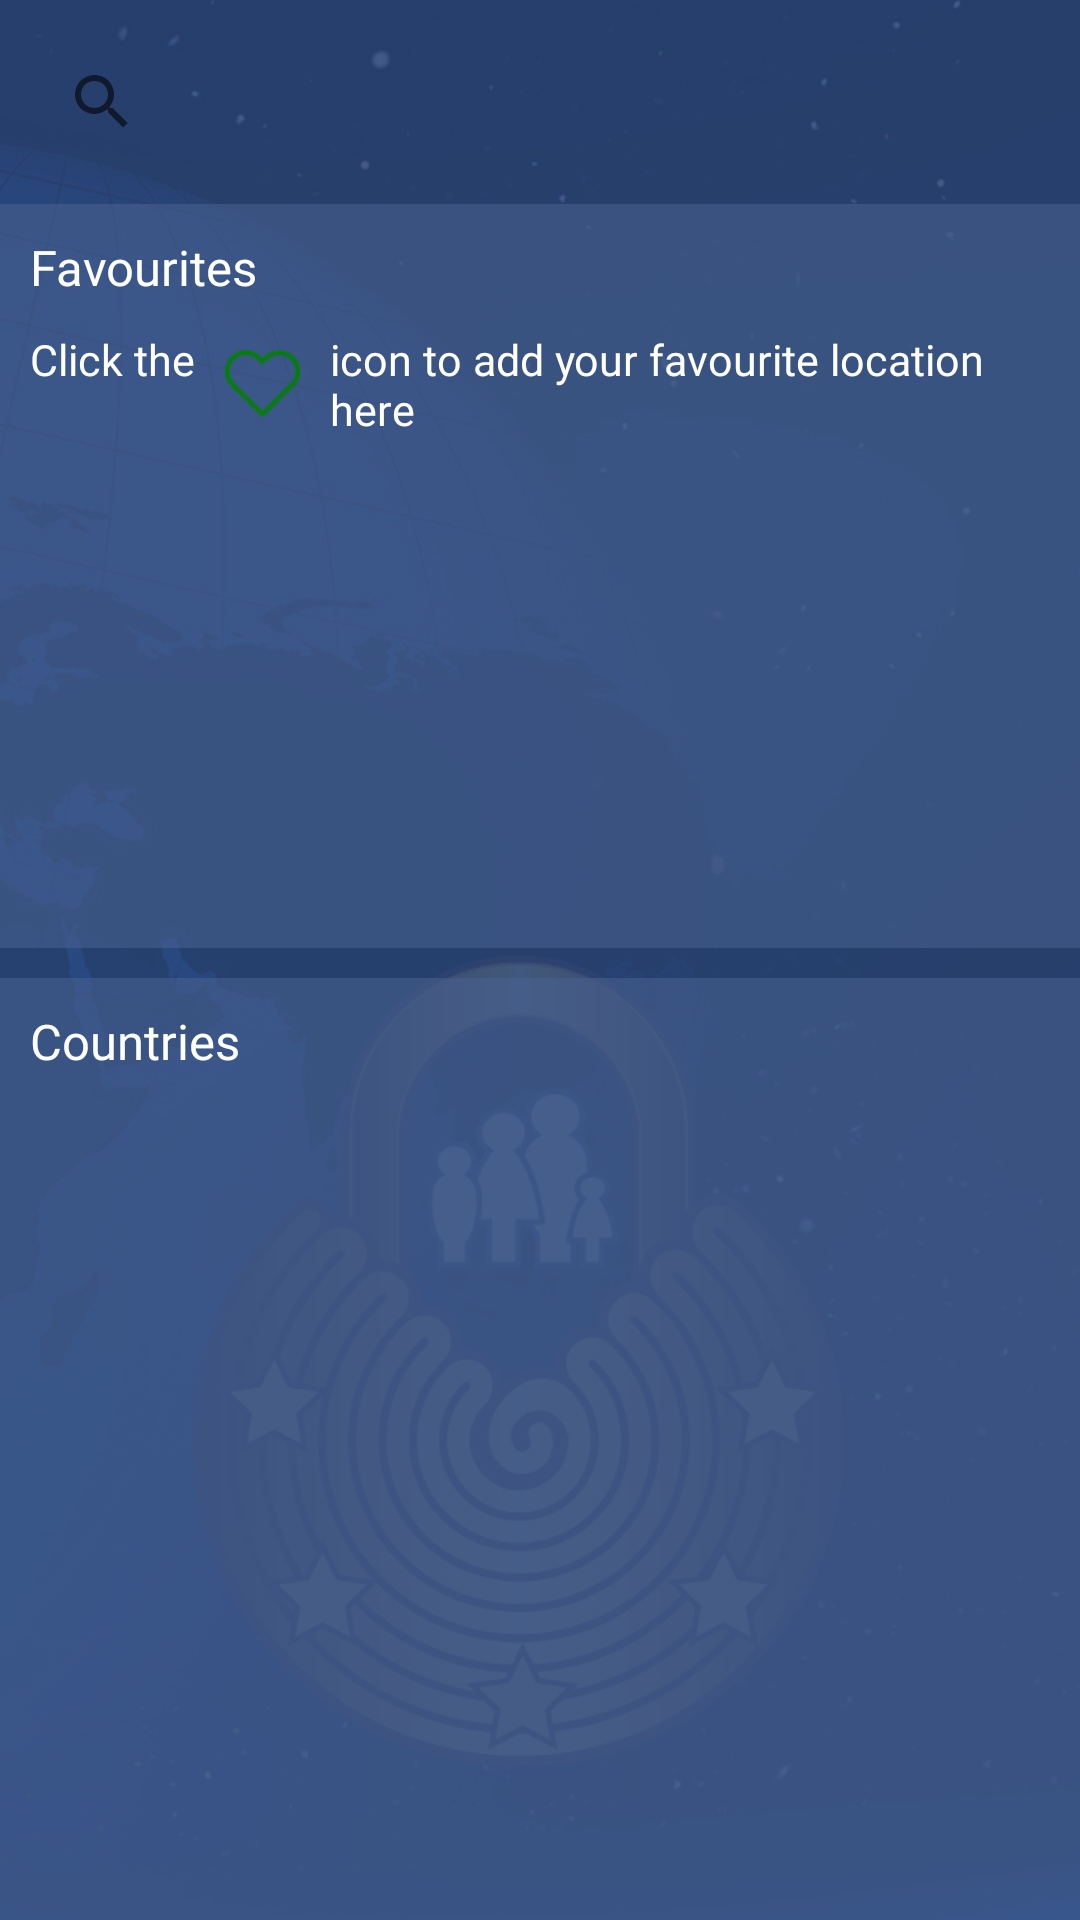

Point at icon controls on the screen. Image size 1080×1920, points as point (x, y).
heart: point (262, 383)
